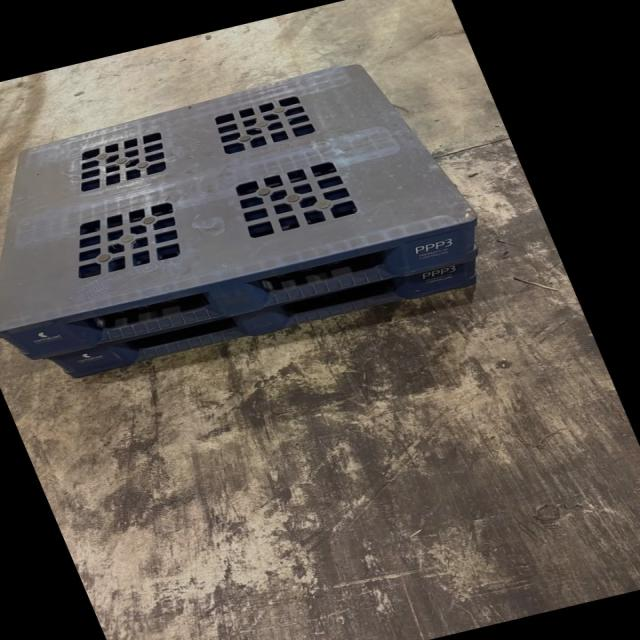non-igps: (0, 59, 483, 384)
